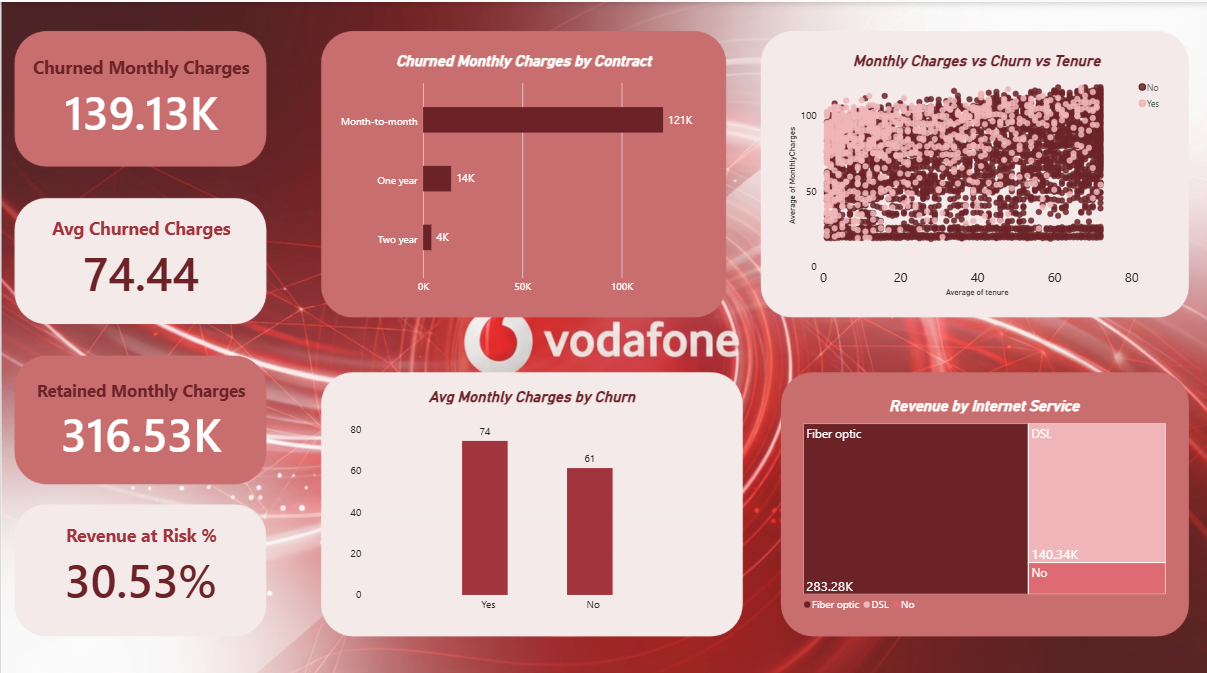

The dashboard page shown, as its layout file describes it:
{"tool":"powerbi","page":{"name":"Revenue & Retention Opportunities ","canvas":[1920,1080],"ordinal":3},"visuals":[{"type":"cardVisual","fields":{"Data":["customerchurn.Churned Monthly Charges"]},"box":[21.5,64.4,403.2,181.3],"z":0},{"type":"cardVisual","fields":{"Data":["customerchurn.Avg Churned Charges"]},"box":[21.5,319.7,403.2,181.3],"z":2},{"type":"cardVisual","fields":{"Data":["customerchurn.Retained Monthly Charges"]},"box":[21.5,577.4,403.2,181.3],"z":3},{"type":"cardVisual","fields":{"Data":["customerchurn.Revenue at Risk %"]},"box":[21.5,808.8,403.2,181.3],"z":4},{"type":"clusteredBarChart","fields":{"Category":["customerchurn.Contract"],"Y":["customerchurn.Churned Monthly Charges"]},"box":[515.4,64.4,632.3,419.9],"z":5},{"type":"clusteredColumnChart","fields":{"Category":["customerchurn.Churn"],"Y":["customerchurn.Avg Monthly Charges"]},"box":[539.2,598.9,610.8,391.3],"z":6},{"type":"scatterChart","title":"Monthly Charges vs Churn vs Tenure","fields":{"Category":["customerchurn.customerID"],"Series":["customerchurn.Churn"],"X":["Avg(customerchurn.tenure)"],"Y":["Avg(customerchurn.MonthlyCharges)"]},"box":[1235.9,64.4,632,420],"z":7},{"type":"treemap","title":"Revenue by Internet Service","fields":{"Group":["customerchurn.InternetService"],"Values":["customerchurn.Total Monthly Charges"]},"box":[1259.8,613.2,608.4,377],"z":8}]}

Visuals, with their boxes in screenshot pixels (x1, y1, x2, y2), scaled from the page's 1920x1080 canvas onto the 1207x673 screenshot:
cardVisual - customerchurn.Churned Monthly Charges: <bbox>14, 40, 267, 153</bbox>
cardVisual - customerchurn.Avg Churned Charges: <bbox>14, 199, 267, 312</bbox>
cardVisual - customerchurn.Retained Monthly Charges: <bbox>14, 360, 267, 473</bbox>
cardVisual - customerchurn.Revenue at Risk %: <bbox>14, 504, 267, 617</bbox>
clusteredBarChart - customerchurn.Contract x customerchurn.Churned Monthly Charges: <bbox>324, 40, 721, 302</bbox>
clusteredColumnChart - customerchurn.Churn x customerchurn.Avg Monthly Charges: <bbox>339, 373, 723, 617</bbox>
"Monthly Charges vs Churn vs Tenure" scatterChart: <bbox>777, 40, 1174, 302</bbox>
"Revenue by Internet Service" treemap: <bbox>792, 382, 1174, 617</bbox>
